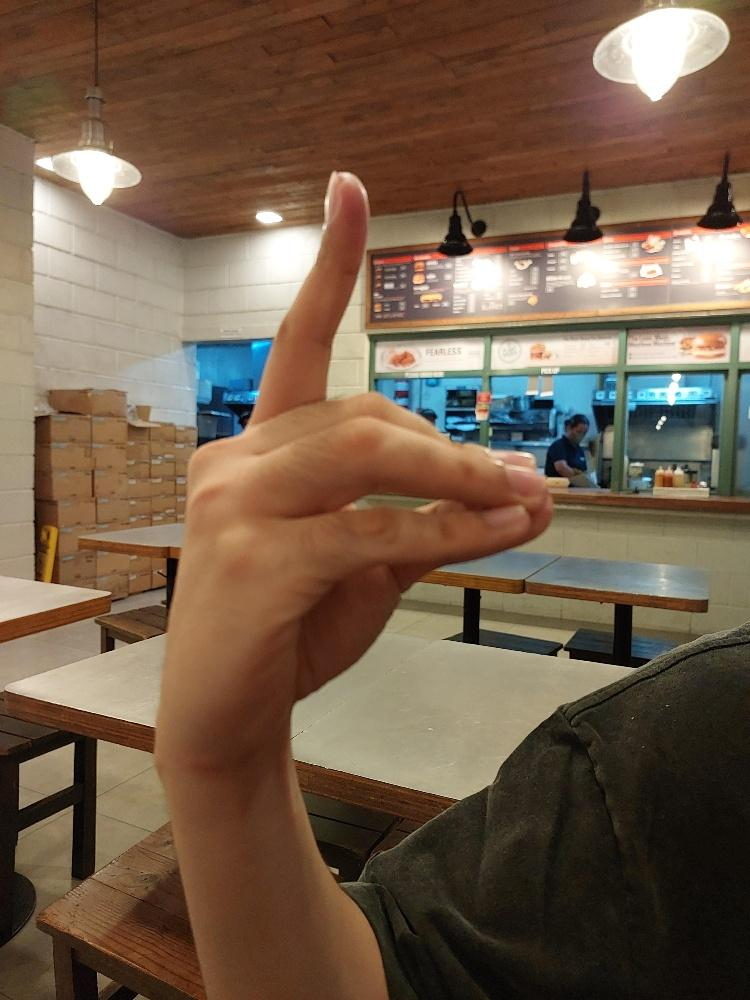d: (161, 167, 555, 769)
